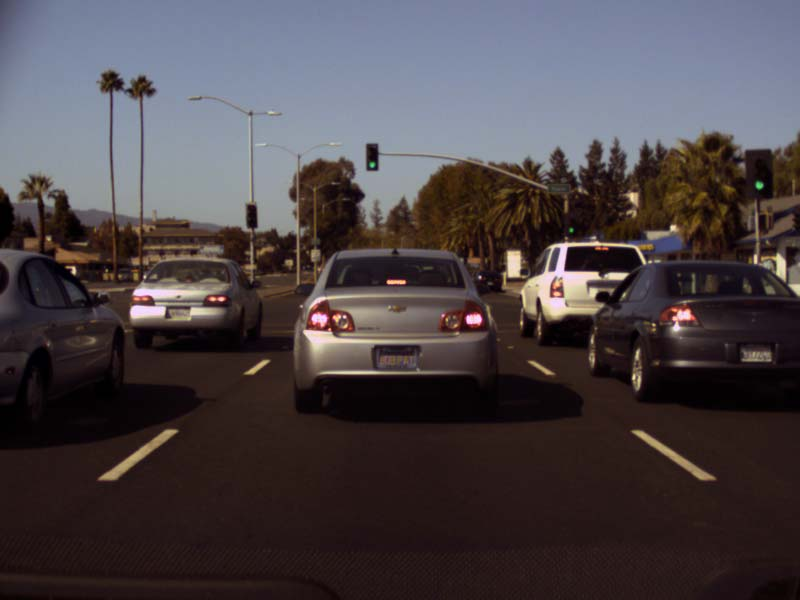Green: (745, 151, 772, 197), (366, 141, 378, 169), (566, 214, 575, 235)
